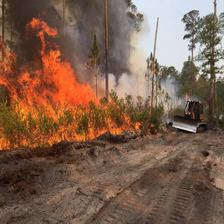fire: (4, 28, 142, 149)
